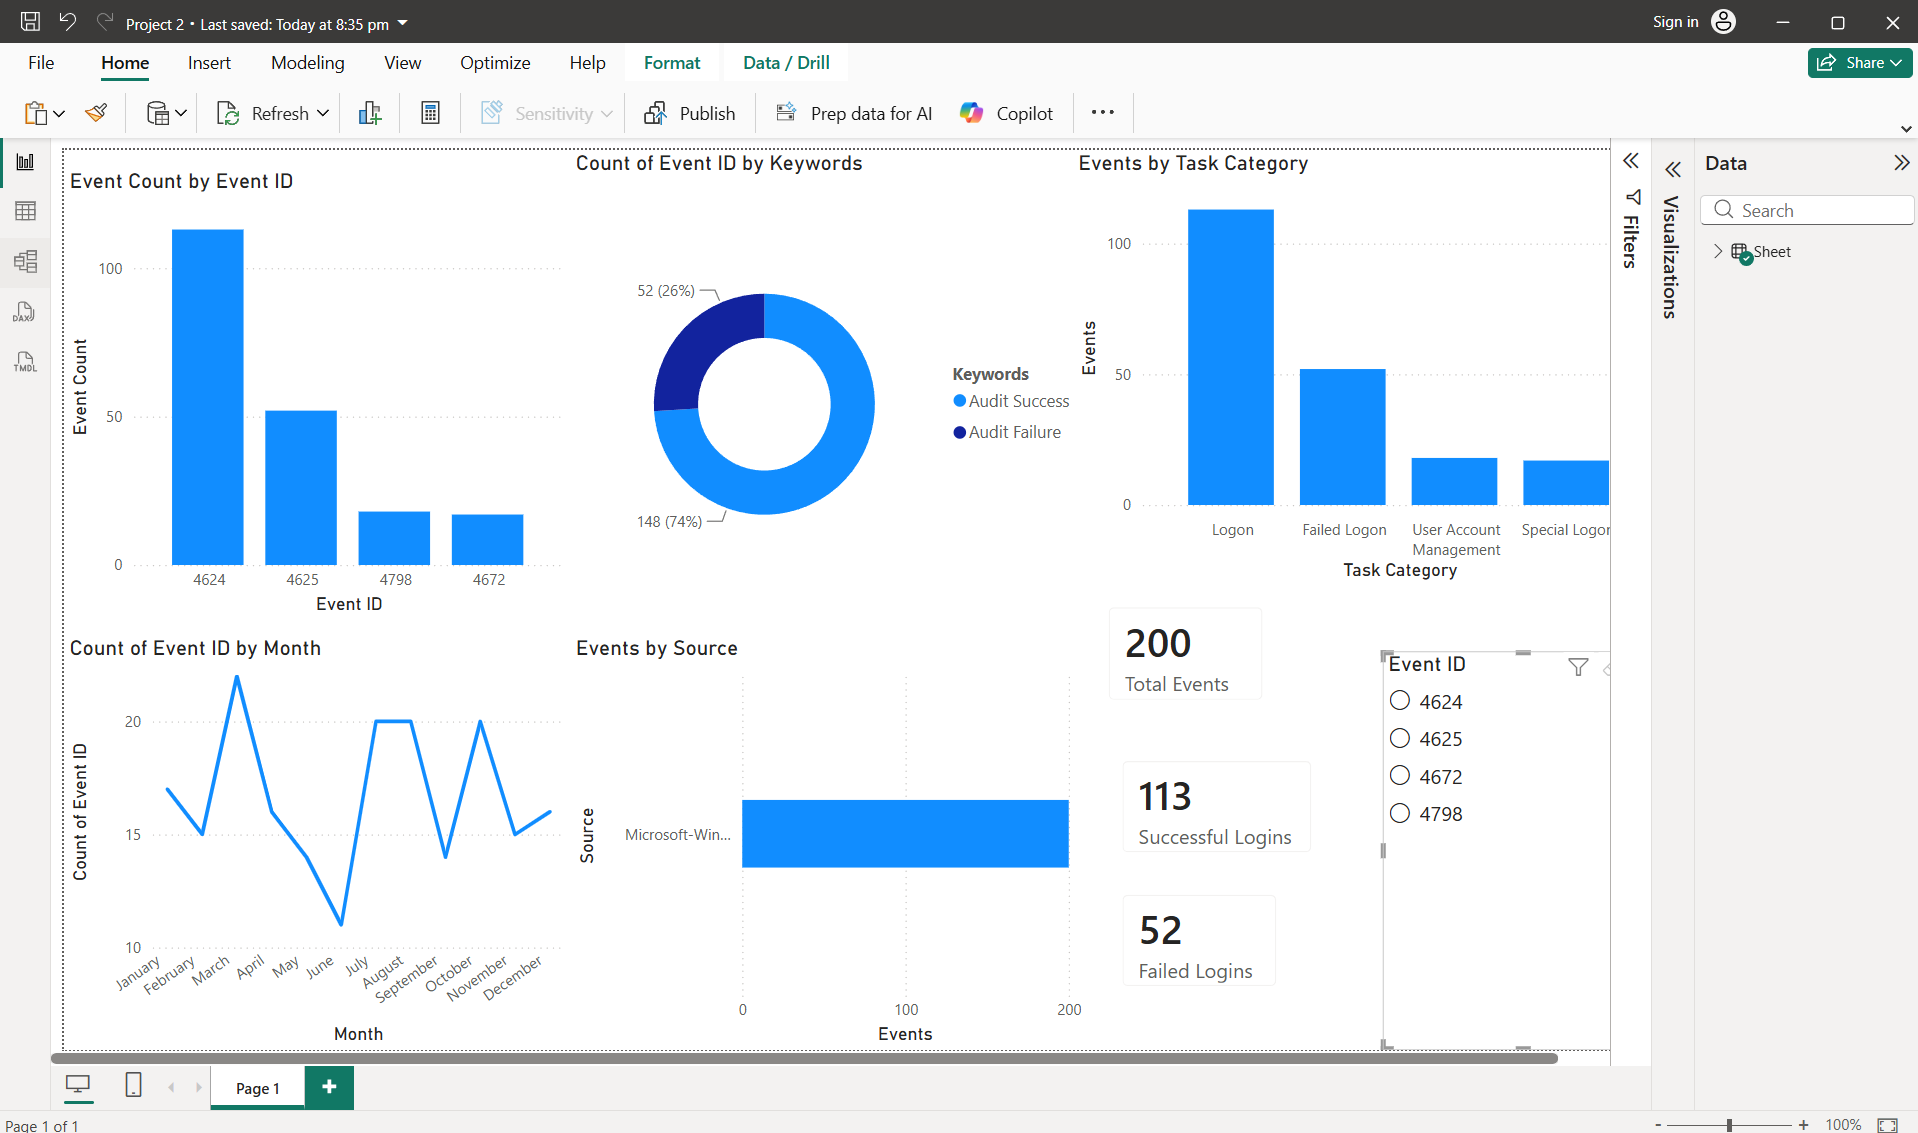

The page's visual inventory and layout, read from the dashboard file:
{"tool":"powerbi","page":{"name":"Page 1","canvas":[1280,720],"ordinal":0},"visuals":[{"type":"clusteredColumnChart","fields":{"Category":["Sheet.Event ID"],"Y":["CountNonNull(Sheet.Event ID)"]},"box":[0,13.7,404.8,362.3],"z":0},{"type":"lineChart","fields":{"Category":["Sheet.Date.Variation.Date Hierarchy.Month"],"Y":["CountNonNull(Sheet.Event ID)"]},"box":[0,388.3,404.8,332.1],"z":1000},{"type":"donutChart","fields":{"Category":["Sheet.Keywords"],"Y":["CountNonNull(Sheet.Event ID)"]},"box":[404.8,0,414.4,388.3],"z":2000},{"type":"barChart","fields":{"Category":["Sheet.Source"],"Y":["CountNonNull(Sheet.Event ID)"]},"box":[404.8,388.3,414.4,332.1],"z":3000},{"type":"lineStackedColumnComboChart","fields":{"Category":["Sheet.Task Category"],"Y":["CountNonNull(Sheet.Event ID)"]},"box":[806.9,0,473.4,348.5],"z":3001},{"type":"cardVisual","fields":{"Data":["CountNonNull(Sheet.Event ID)"]},"box":[819.2,348.5,156.4,108.4],"z":3002},{"type":"cardVisual","fields":{"Data":["CountNonNull(Sheet.Event ID)"]},"box":[830.2,472,185.2,107],"z":3003},{"type":"cardVisual","fields":{"Data":["CountNonNull(Sheet.Event ID)"]},"box":[830.2,579.1,156.4,107],"z":3004},{"type":"listSlicer","fields":{"Values":["Sheet.Event ID"]},"box":[1055.2,400.7,225,319.7],"z":3005}]}

Visuals, with their boxes on the page's 1280x720 design canvas (x1, y1, x2, y2). These are canvas units, not pixel positions in the 1918x1133 screenshot, which may show the page scaled, cropped or inside an application window:
clusteredColumnChart - Sheet.Event ID x CountNonNull(Sheet.Event ID): <region>0, 14, 405, 376</region>
lineChart - Sheet.Date.Variation.Date Hierarchy.Month x CountNonNull(Sheet.Event ID): <region>0, 388, 405, 720</region>
donutChart - Sheet.Keywords x CountNonNull(Sheet.Event ID): <region>405, 0, 819, 388</region>
barChart - Sheet.Source x CountNonNull(Sheet.Event ID): <region>405, 388, 819, 720</region>
lineStackedColumnComboChart - Sheet.Task Category x CountNonNull(Sheet.Event ID): <region>807, 0, 1280, 348</region>
cardVisual - CountNonNull(Sheet.Event ID): <region>819, 348, 976, 457</region>
cardVisual - CountNonNull(Sheet.Event ID): <region>830, 472, 1015, 579</region>
cardVisual - CountNonNull(Sheet.Event ID): <region>830, 579, 987, 686</region>
listSlicer - Sheet.Event ID: <region>1055, 401, 1280, 720</region>
